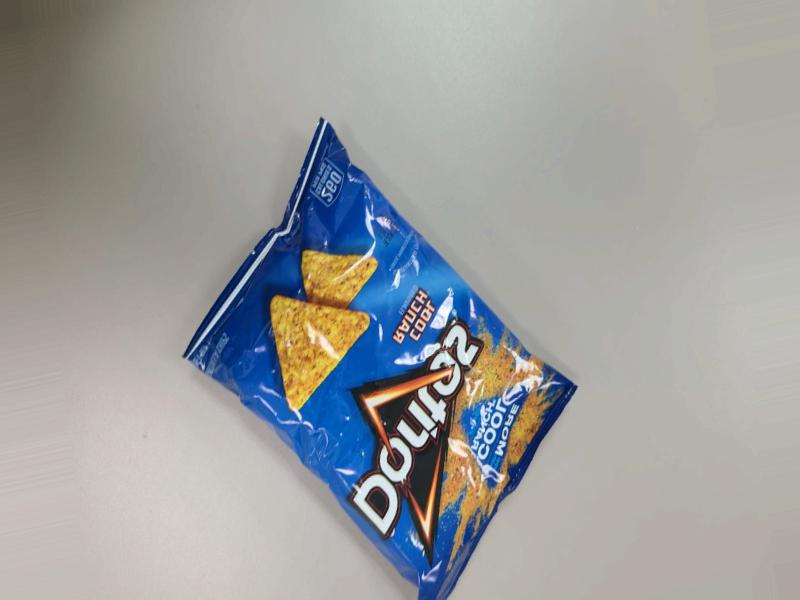doritos: (230, 183, 560, 566)
